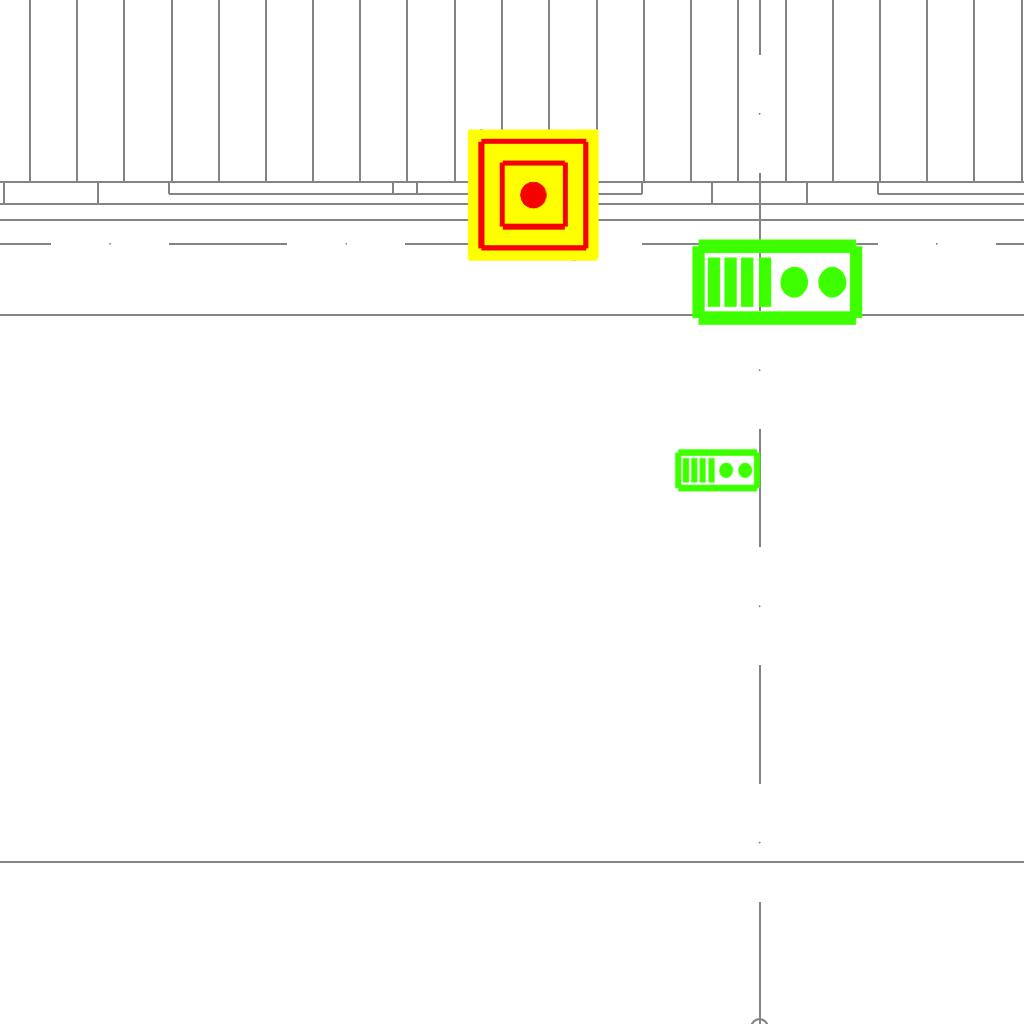Gegensprechanlage_mit_Video: (690, 233, 866, 328), (674, 446, 762, 493)
NAM-Nichtautomatischer_Melder: (467, 129, 599, 261)
